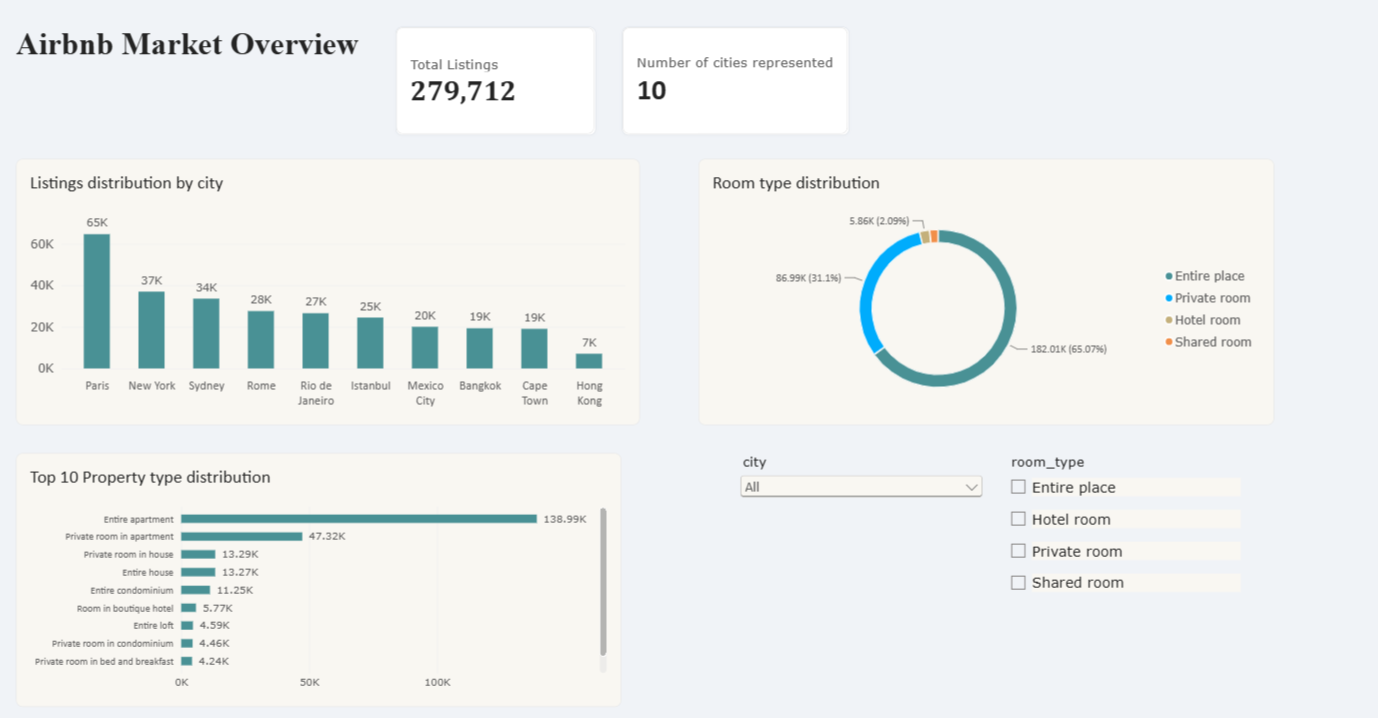

What the dashboard file says about the page in this screenshot:
{"tool":"powerbi","page":{"name":"Market Overview","canvas":[1920,1080],"ordinal":0},"visuals":[{"type":"cardVisual","fields":{"Data":["Listings.Total Listings Text"]},"box":[472.2,33.3,238.9,129.6],"z":0},{"type":"cardVisual","title":"Number of cities represented","fields":{"Data":["Count(Listings.city)"]},"box":[740.7,33.3,270.4,129.6],"z":1000},{"type":"columnChart","title":"Listings distribution by city","fields":{"Category":["Listings.city"],"Y":["CountNonNull(Listings.listing_id)"]},"box":[20.4,190.7,742.6,316.7],"z":2000},{"type":"donutChart","title":"Room type distribution","fields":{"Category":["Listings.room_type"],"Y":["CountNonNull(Listings.room_type)"]},"box":[831.5,190.7,685.2,316.7],"z":3000},{"type":"barChart","title":"Top 10 Property type distribution","fields":{"Category":["Listings.property_type"],"Y":["Count(Listings.listing_id)"]},"box":[20.4,540.7,720.4,301.9],"z":4000},{"type":"textbox","box":[20,61.7,420,72],"z":5000},{"type":"slicer","fields":{"Values":["Listings.city"]},"box":[875.9,540.7,298.1,301.9],"z":6000},{"type":"slicer","fields":{"Values":["Listings.room_type"]},"box":[1196.3,540.7,281.5,220.4],"z":7000}]}

Visuals, with their boxes on the page's 1920x1080 design canvas (x1, y1, x2, y2). These are canvas units, not pixel positions in the 1378x718 screenshot, which may show the page scaled, cropped or inside an application window:
cardVisual - Listings.Total Listings Text: Rect(472, 33, 711, 163)
"Number of cities represented" cardVisual: Rect(741, 33, 1011, 163)
"Listings distribution by city" columnChart: Rect(20, 191, 763, 507)
"Room type distribution" donutChart: Rect(832, 191, 1517, 507)
"Top 10 Property type distribution" barChart: Rect(20, 541, 741, 843)
textbox: Rect(20, 62, 440, 134)
slicer - Listings.city: Rect(876, 541, 1174, 843)
slicer - Listings.room_type: Rect(1196, 541, 1478, 761)
